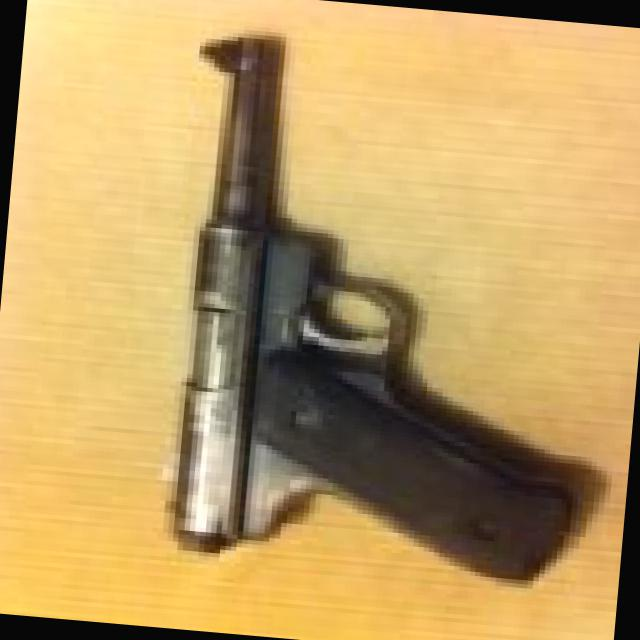handgun: (148, 16, 617, 603)
